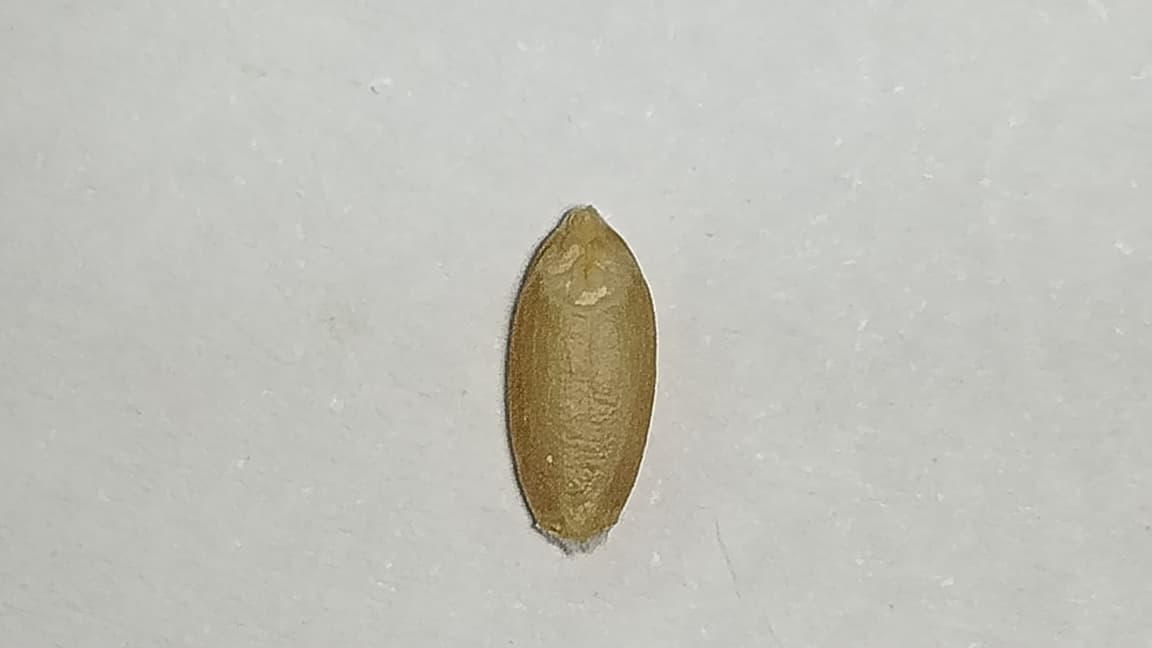healthy: (507, 206, 655, 542)
